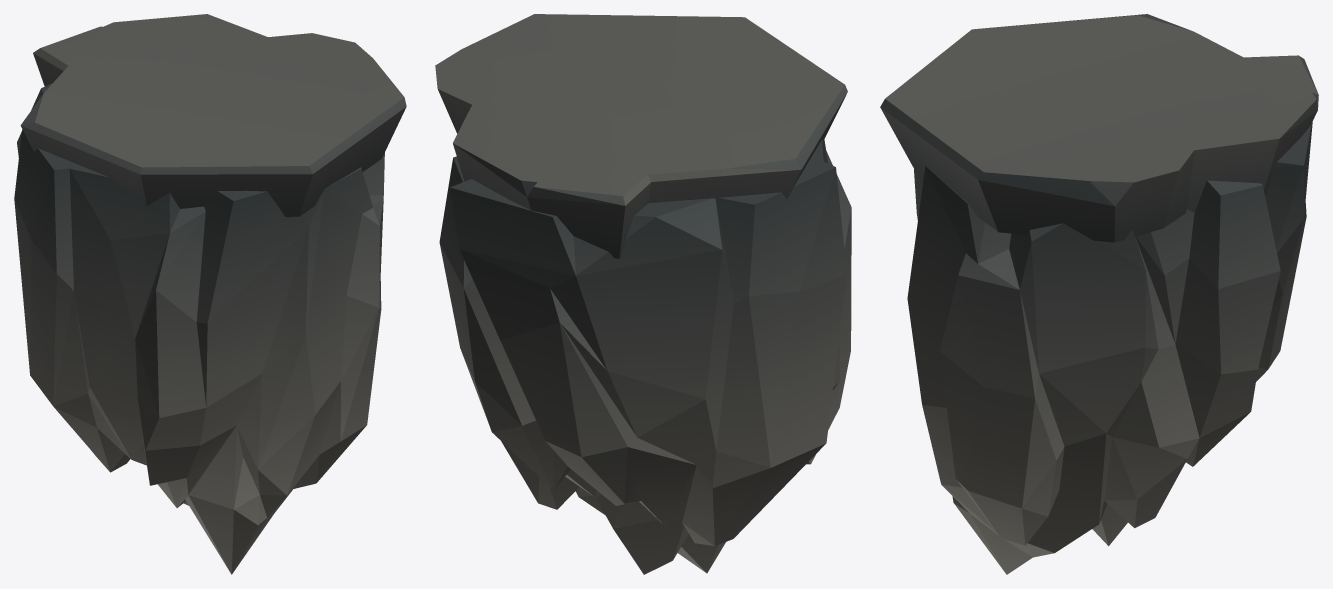
Rendered from Floating_Isle_02.fbx.
The picture shows the model from 3 angles, left to right: view 1: azimuth 30°, elevation 25°; view 2: azimuth 150°, elevation 25°; view 3: azimuth 270°, elevation 25°; orthographic projection. The views are drawn at different scales.
Visible parts, largest first — view 1: Merged_PM3D_rocks3.051; view 2: Merged_PM3D_rocks3.051; view 3: Merged_PM3D_rocks3.051.
Boxes of the visible parts, bbox=[...] form: Merged_PM3D_rocks3.051: bbox=[14, 14, 406, 574]; Merged_PM3D_rocks3.051: bbox=[435, 14, 851, 574]; Merged_PM3D_rocks3.051: bbox=[880, 14, 1318, 574].
Bounding box in the file's own units: 1747 × 2230 × 1810.
